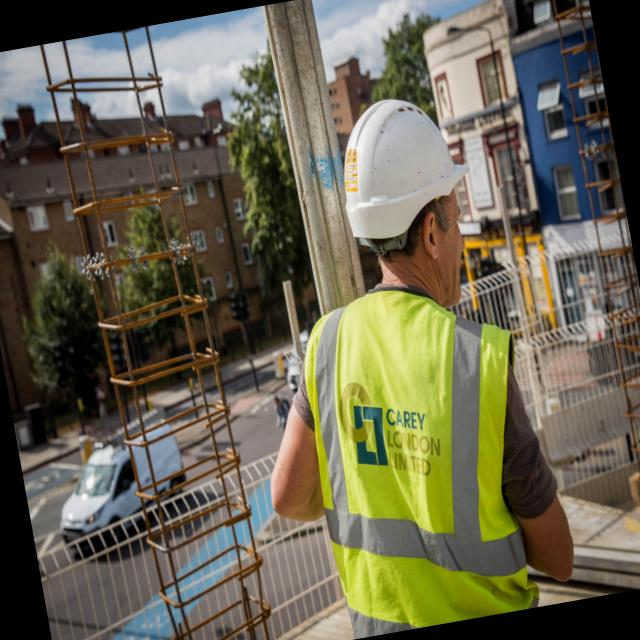helmet: (324, 84, 483, 259)
vest: (296, 268, 570, 639)
